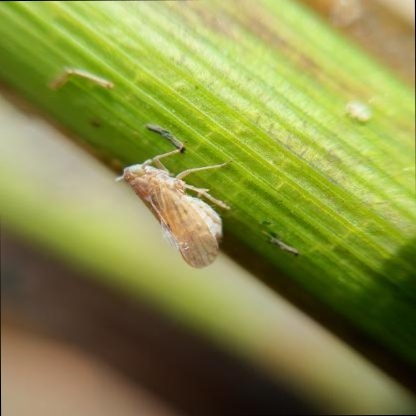Brown_hopper: (101, 127, 237, 282)
